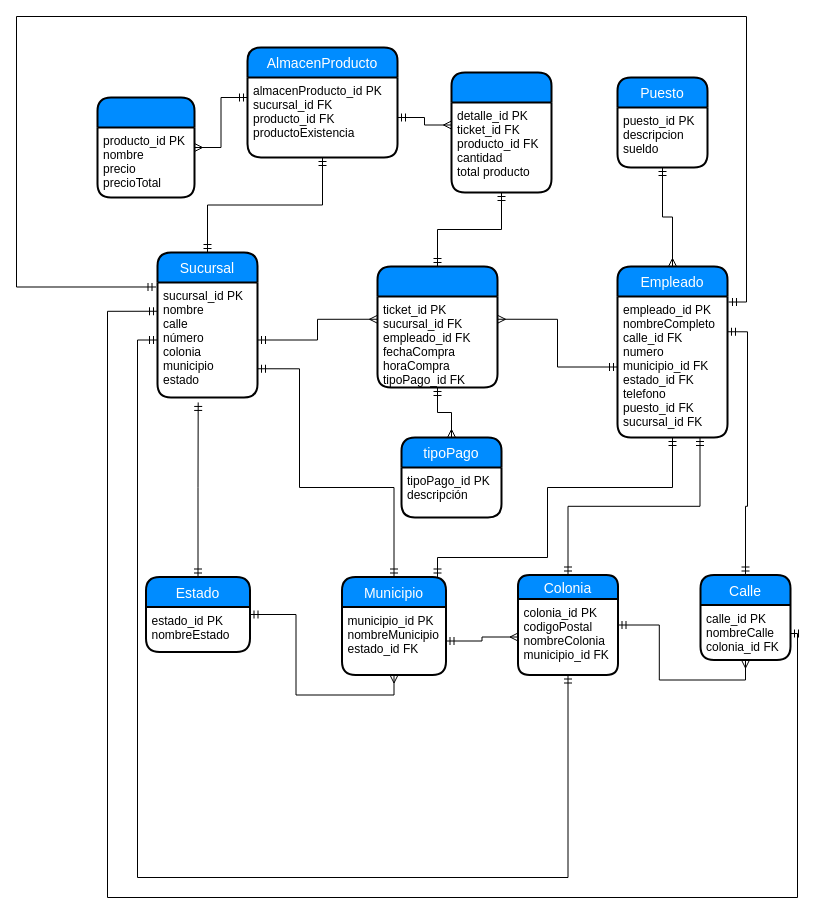
Image size: 815x914. Some labels were removed from this diagram. The box of each missing label's shape, as (x1, y1, x2, y2) in pixels:
Productos: (96, 96, 195, 198)
TicketDetalle: (450, 71, 552, 193)
TicketEncabezado: (376, 265, 498, 388)
